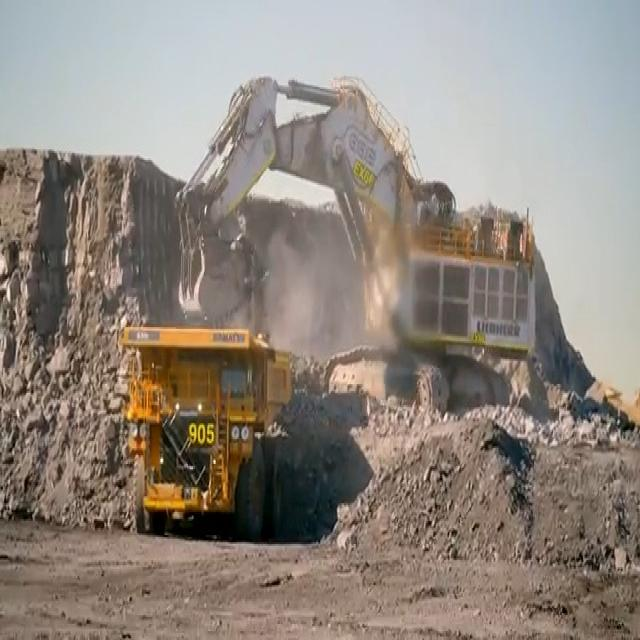dump_truck: (114, 327, 291, 533)
excavator: (146, 73, 548, 345)
